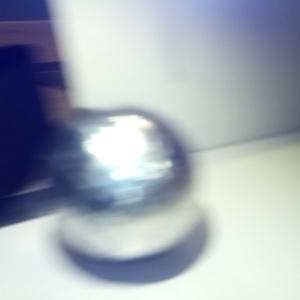alive_ball: (45, 110, 197, 262)
